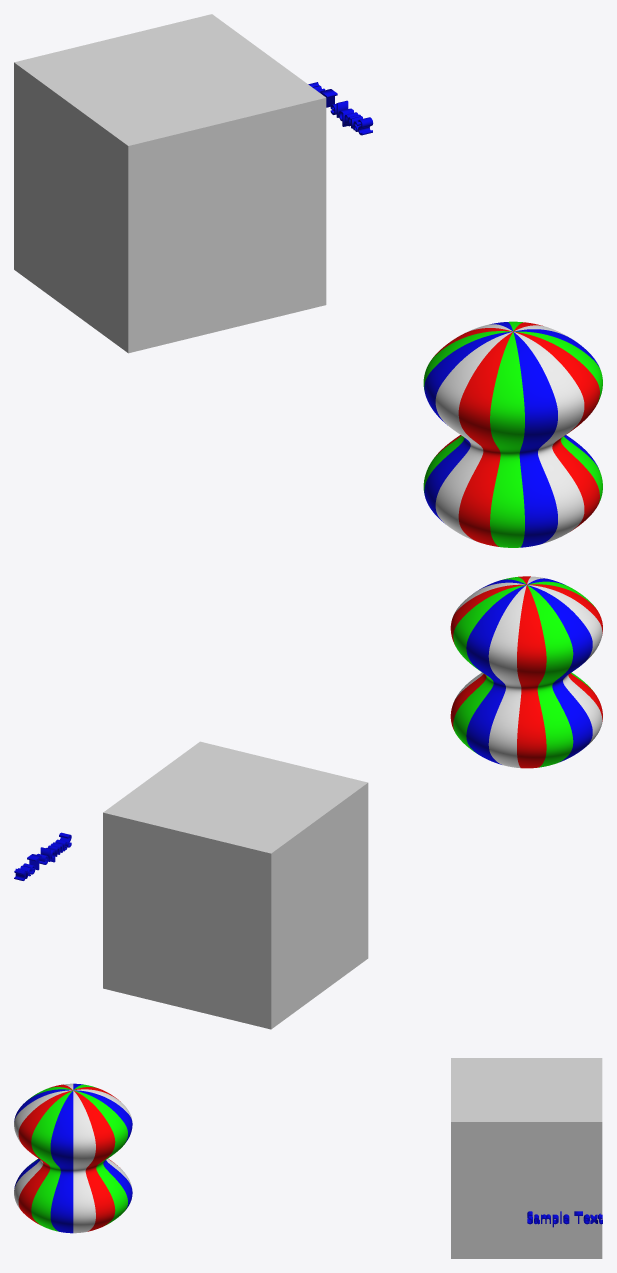
Rendered from MemeFailImpact.fbx.
The picture shows the model from 3 angles, top to bottom: view 1: azimuth 30°, elevation 25°; view 2: azimuth 150°, elevation 25°; view 3: azimuth 270°, elevation 25°; orthographic projection. The views are drawn at different scales.
Visible parts, largest first — view 1: Cube, Sphere, Text; view 2: Cube, Sphere, Text; view 3: Cube, Sphere, Text.
Boxes of the visible parts, x1,y1,x2,y2 form: Cube: (14, 14, 326, 353); Sphere: (423, 321, 602, 547); Text: (308, 82, 373, 135); Cube: (103, 741, 368, 1029); Sphere: (450, 576, 602, 768); Text: (14, 832, 71, 880); Cube: (451, 1058, 602, 1258); Sphere: (14, 1083, 132, 1233); Text: (527, 1211, 602, 1227).
Size of the model in its own units: 305 by 200 by 779.
